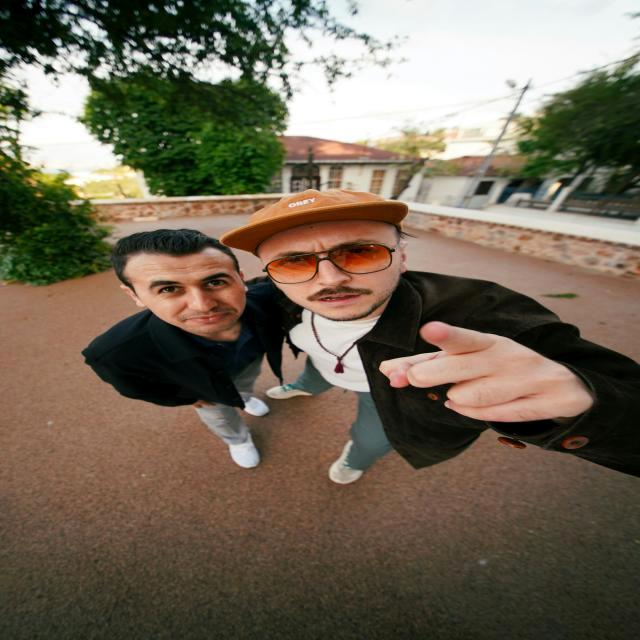no_hard_hat: (220, 189, 408, 254)
no_head_wear: (111, 228, 235, 267)
person: (221, 190, 640, 484), (82, 229, 284, 468)
